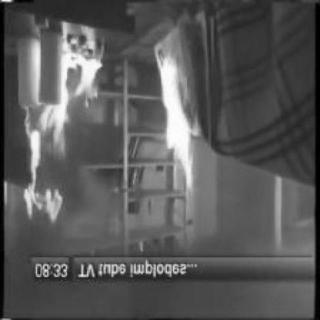Smoke: (152, 60, 194, 182)
